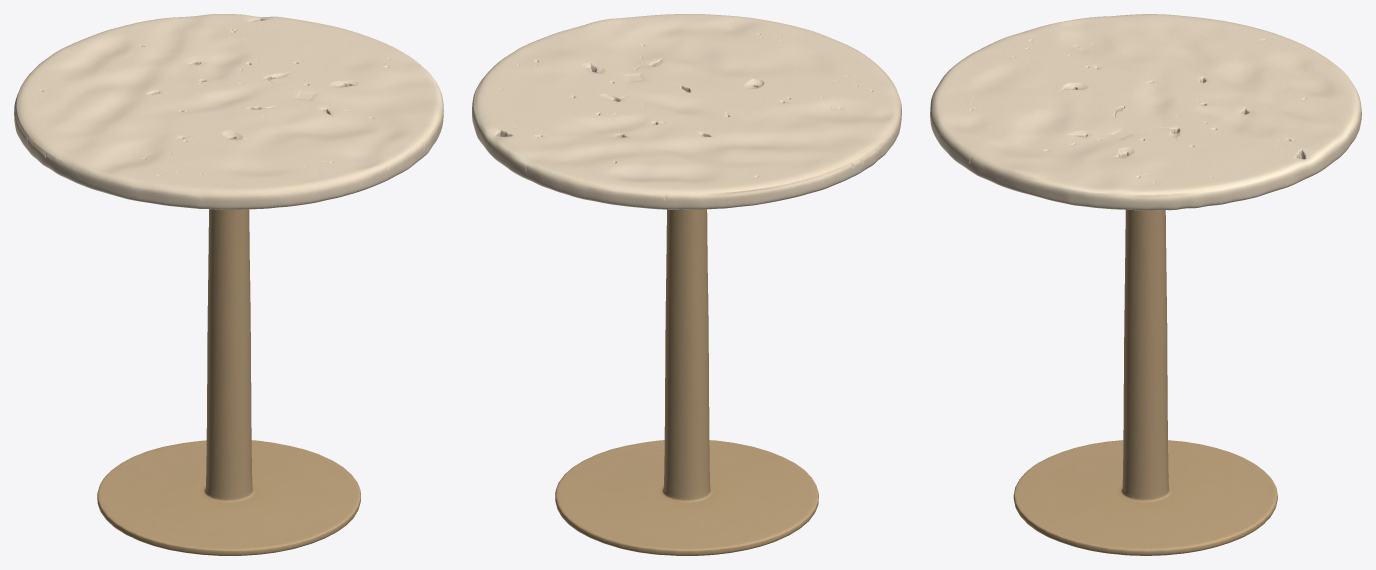
The model's file is cafetable.glb.
3 renders of one model, left to right at view 1: azimuth 30°, elevation 25°; view 2: azimuth 150°, elevation 25°; view 3: azimuth 270°, elevation 25°, orthographic.
Parts seen in each view (by area): view 1: tripo_node_3c3d4659-8a66-43ce-8b4d-4d35e86db970; view 2: tripo_node_3c3d4659-8a66-43ce-8b4d-4d35e86db970; view 3: tripo_node_3c3d4659-8a66-43ce-8b4d-4d35e86db970.
Boxes of the visible parts, box(x1,y1,x2,y2) form: tripo_node_3c3d4659-8a66-43ce-8b4d-4d35e86db970: box(14, 14, 443, 555); tripo_node_3c3d4659-8a66-43ce-8b4d-4d35e86db970: box(472, 14, 901, 555); tripo_node_3c3d4659-8a66-43ce-8b4d-4d35e86db970: box(930, 14, 1361, 555).
Size of the model in its own units: 0.6361 by 0.65 by 0.6354.
1 material, 1 textured.
